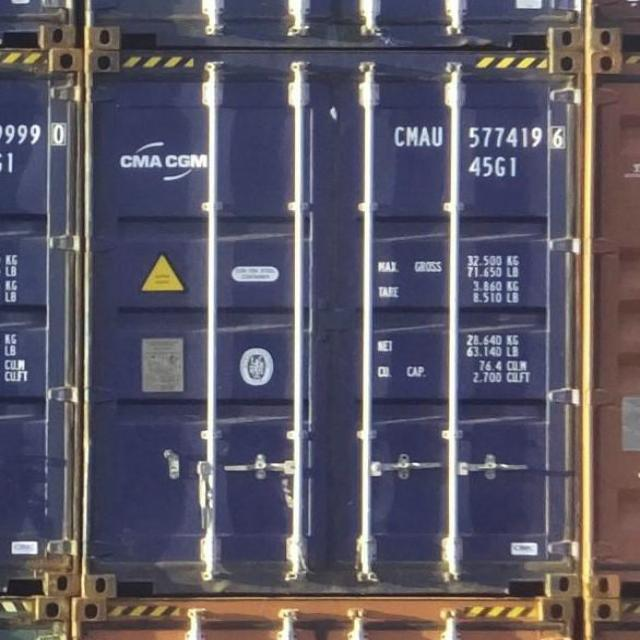ISO: (470, 153, 520, 181)
container_number: (391, 119, 574, 150)
